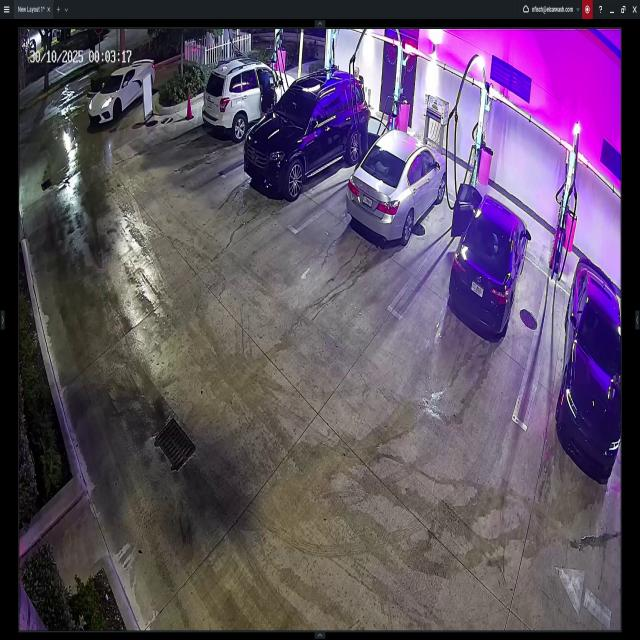Car: (244, 70, 366, 196), (557, 255, 620, 478), (448, 183, 532, 335), (345, 128, 447, 248), (200, 61, 295, 137), (88, 61, 155, 124)
